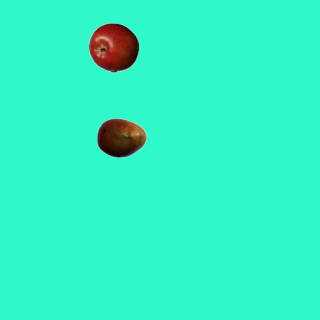Apple Braeburn: (88, 22, 138, 72)
Mango Red: (96, 112, 146, 162)
